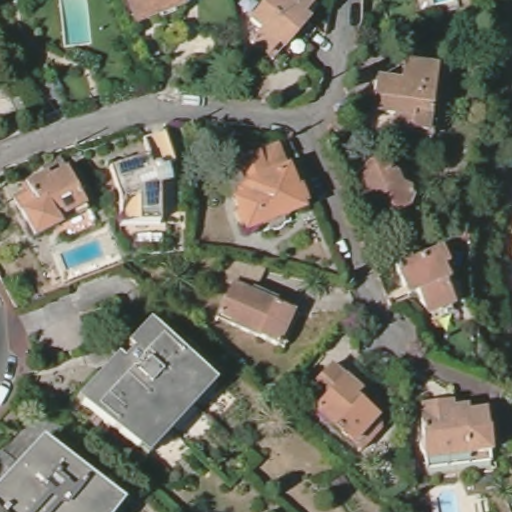pool: (57, 1, 95, 48), (59, 243, 105, 272), (434, 484, 463, 512)
